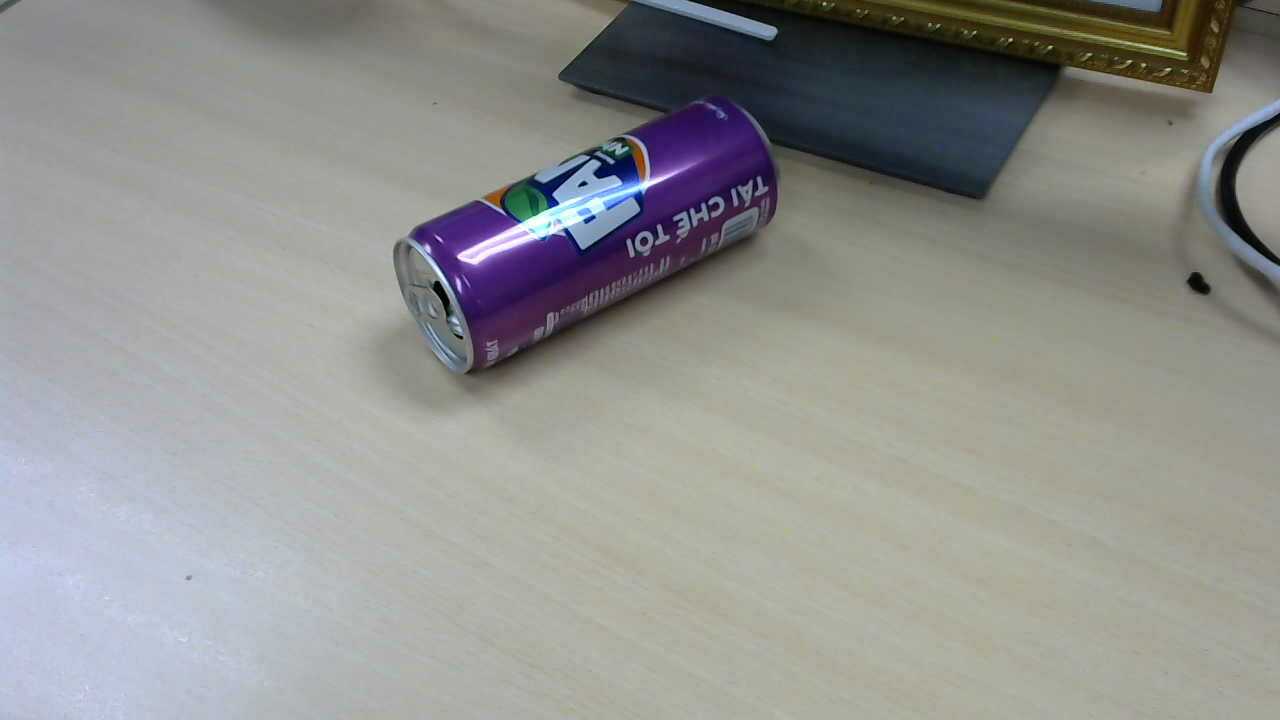Fanta: (394, 93, 787, 381)
